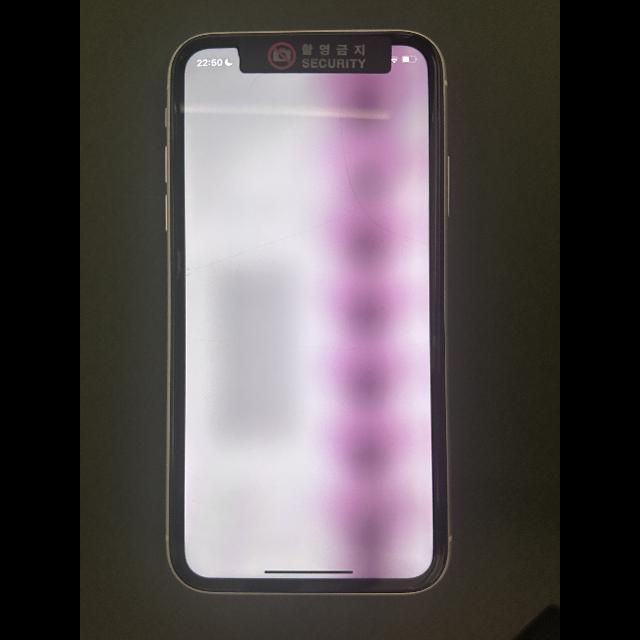phone: (166, 29, 452, 595)
sticker: (239, 35, 392, 74)
